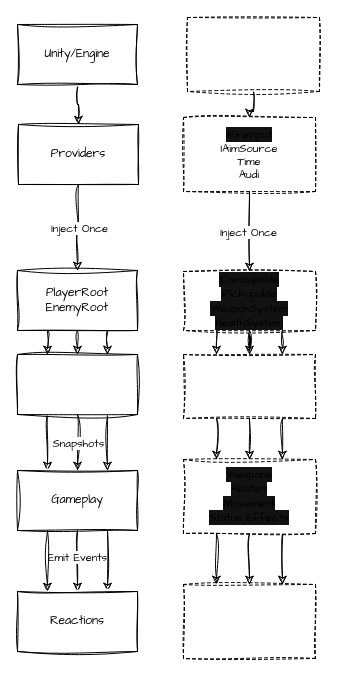
This 337x676 diagram has some shape labels left out. The shapes that lost their labels are listed below. From the top down, each one's box as (x1, y1, x2, y2) in pixels, then its label:
(186, 16, 320, 92): Physical Keyboard Physics Time Audio
(16, 354, 138, 414): Systems Controllers
(182, 354, 316, 418): WeaponSystem AIControll er
(182, 584, 316, 658): UI Audio VFX Score Camera Shake
